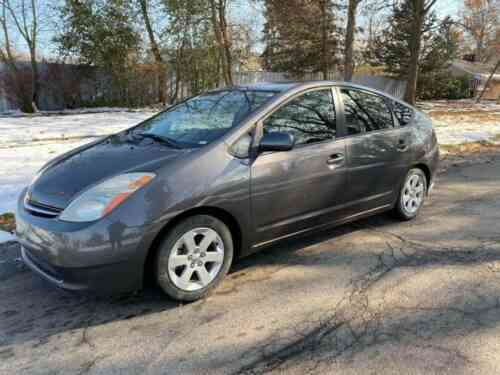Toyota Prius: (14, 79, 441, 304)
